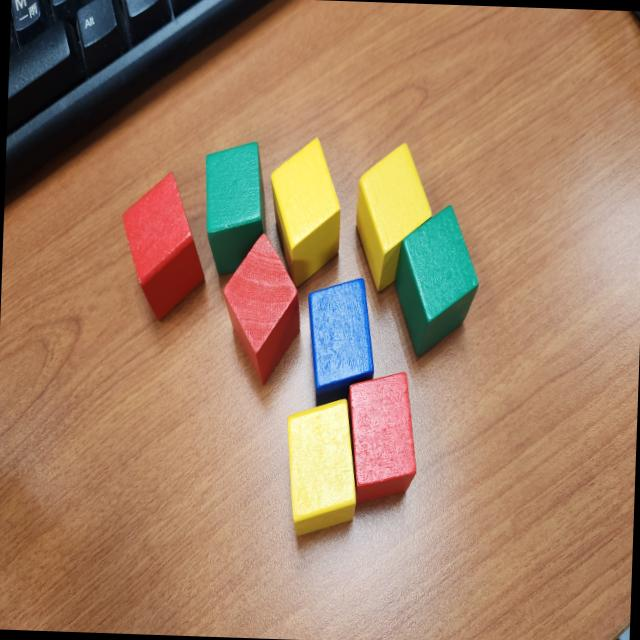blue: (304, 274, 380, 408)
green: (392, 204, 482, 360), (200, 140, 266, 278)
red: (117, 172, 209, 324), (220, 228, 302, 388), (344, 368, 420, 506)
yellow: (352, 140, 436, 296), (266, 134, 344, 288), (282, 396, 360, 540)
